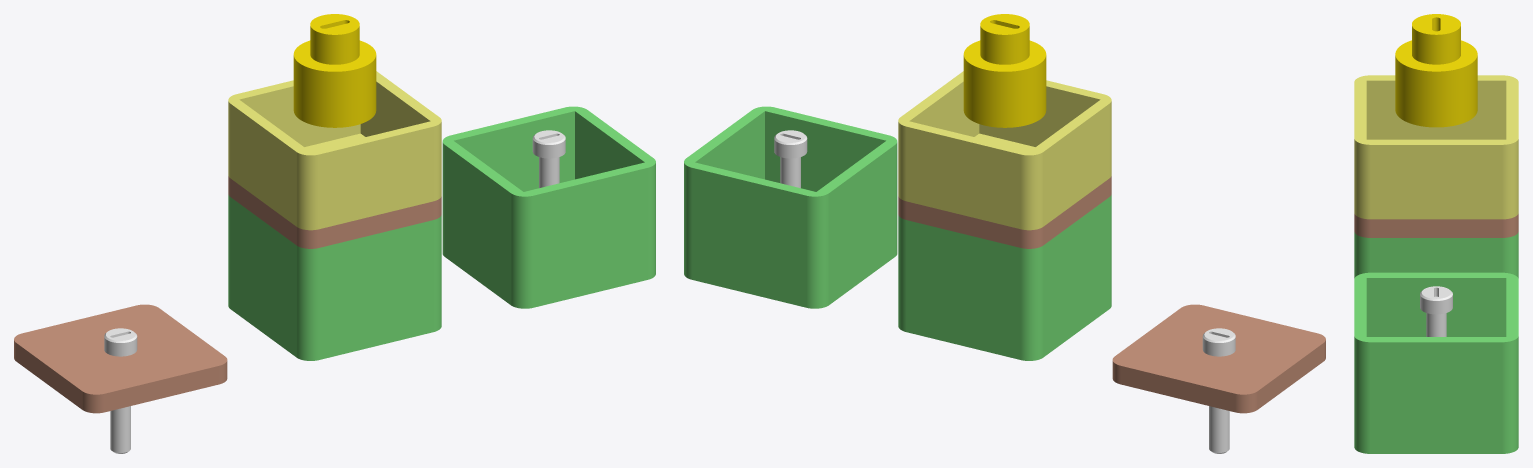
File: kompleks_montaj_son_hali_v2.gltf
3 renders of one model, left to right at view 1: azimuth 30°, elevation 25°; view 2: azimuth 150°, elevation 25°; view 3: azimuth 270°, elevation 25°, orthographic.
Parts seen in each view (by area): view 1: sag_yesil_part, yesil_taban_part, sari_kutu_part, sol_kahverengi_part, sari_baslik_part, kahverengi_baglanti_part, sol_vida_part, sag_vida_part; view 2: sag_yesil_part, yesil_taban_part, sari_kutu_part, sol_kahverengi_part, sari_baslik_part, kahverengi_baglanti_part, sol_vida_part, sag_vida_part; view 3: sag_yesil_part, sari_kutu_part, sari_baslik_part, yesil_taban_part, kahverengi_baglanti_part, sag_vida_part.
Part boxes in pixels (x1,y1,x2,y2): sag_yesil_part: (442,106,655,308); yesil_taban_part: (228,195,441,360); sari_kutu_part: (228,71,441,230); sol_kahverengi_part: (14,304,227,413); sari_baslik_part: (293,14,376,127); kahverengi_baglanti_part: (228,176,441,248); sol_vida_part: (104,328,137,453); sag_vida_part: (532,130,565,188); sag_yesil_part: (684,106,897,308); yesil_taban_part: (898,195,1111,360); sari_kutu_part: (898,71,1111,230); sol_kahverengi_part: (1112,304,1325,413); sari_baslik_part: (963,14,1046,127); kahverengi_baglanti_part: (898,176,1111,248); sol_vida_part: (1202,328,1235,453); sag_vida_part: (774,130,807,188); sag_yesil_part: (1354,272,1518,453); sari_kutu_part: (1354,75,1518,219); sari_baslik_part: (1395,14,1477,127); yesil_taban_part: (1354,232,1518,278); kahverengi_baglanti_part: (1354,214,1518,237); sag_vida_part: (1420,286,1452,336).
Size of the model in its own units: 160 by 100 by 40.
